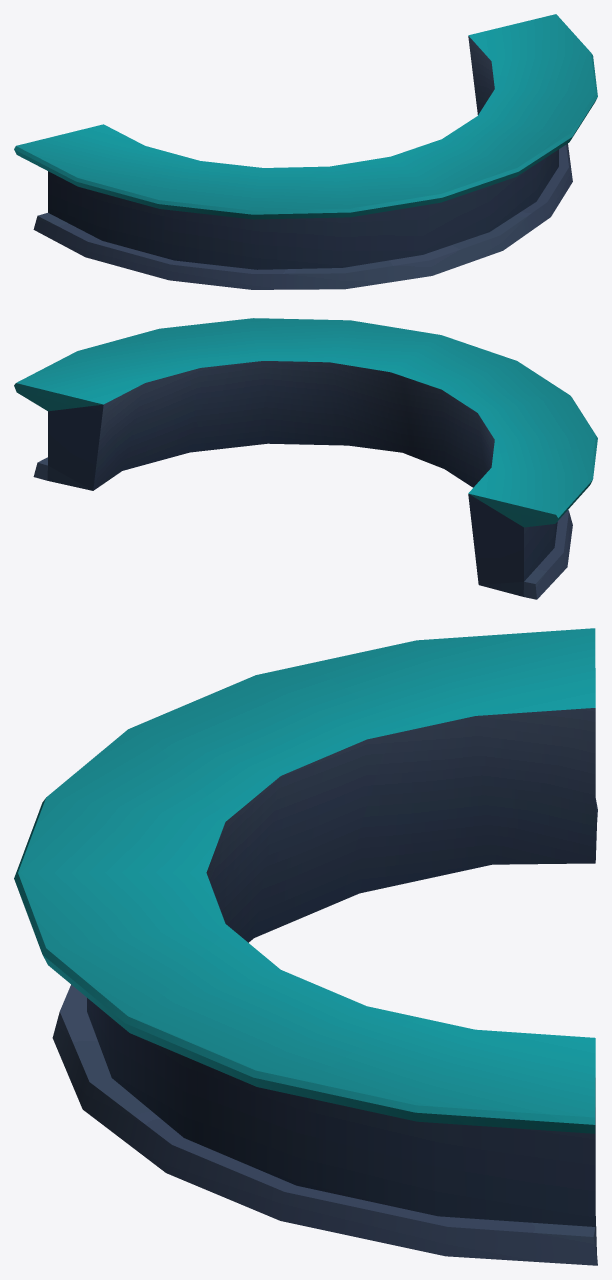
Rendered from Pub - bar.fbx.
The picture shows the model from 3 angles, top to bottom: view 1: azimuth 30°, elevation 25°; view 2: azimuth 150°, elevation 25°; view 3: azimuth 270°, elevation 25°; orthographic projection. The views are drawn at different scales.
Visible parts, largest first — view 1: Bar; view 2: Bar; view 3: Bar.
Part boxes in pixels (bbox=[...]): Bar: bbox=[14, 14, 597, 289]; Bar: bbox=[14, 318, 597, 599]; Bar: bbox=[14, 628, 597, 1265].
Bounding box in the file's own units: 689 × 108 × 345.
